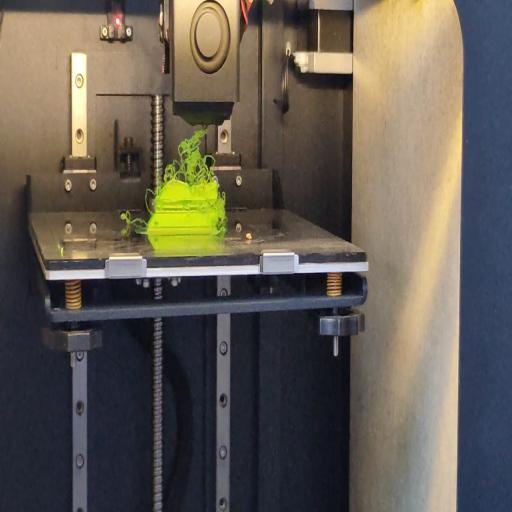spaghetti: (161, 126, 220, 181), (117, 210, 148, 232), (146, 186, 154, 214), (216, 223, 226, 232)
